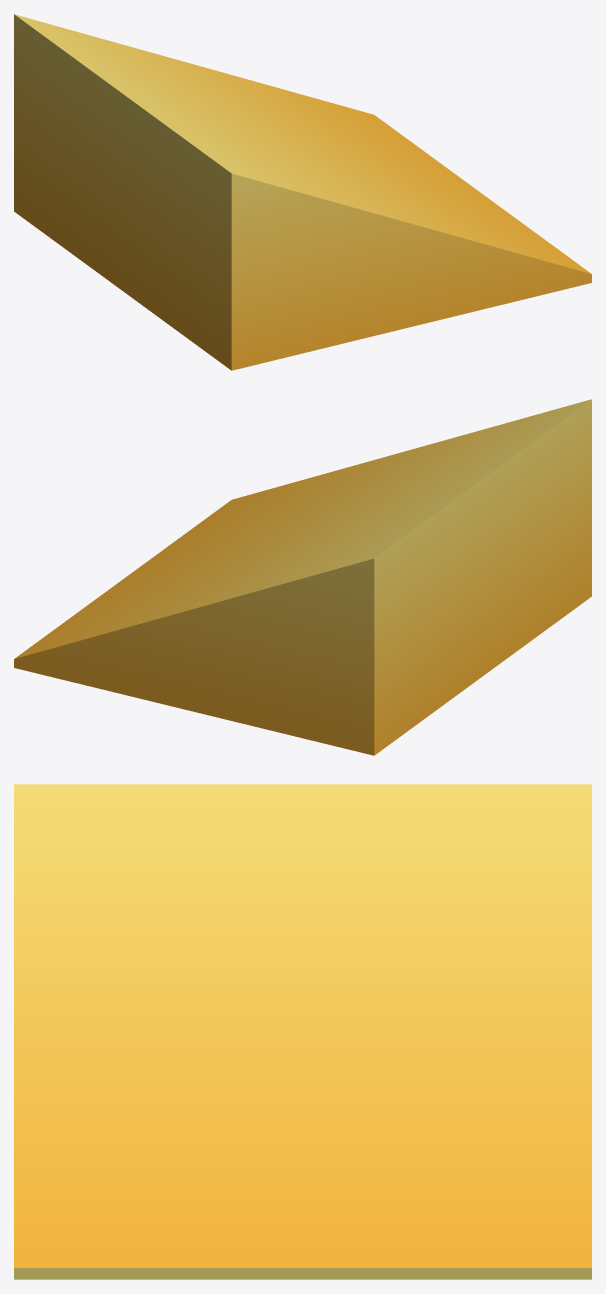
The model's file is yellow-ramp.glb.
The picture shows the model from 3 angles, top to bottom: view 1: azimuth 30°, elevation 25°; view 2: azimuth 150°, elevation 25°; view 3: azimuth 270°, elevation 25°; orthographic projection. The views are drawn at different scales.
Visible parts, largest first — view 1: Primitive_Slope.004; view 2: Primitive_Slope.004; view 3: Primitive_Slope.004.
Part boxes in pixels (x1,y1,x2,y2): Primitive_Slope.004: (14,14,591,370); Primitive_Slope.004: (14,399,591,755); Primitive_Slope.004: (14,784,591,1279).
Size of the model in its own units: 3.82 by 2 by 4.
Materials: 1 (1 with a texture image).
